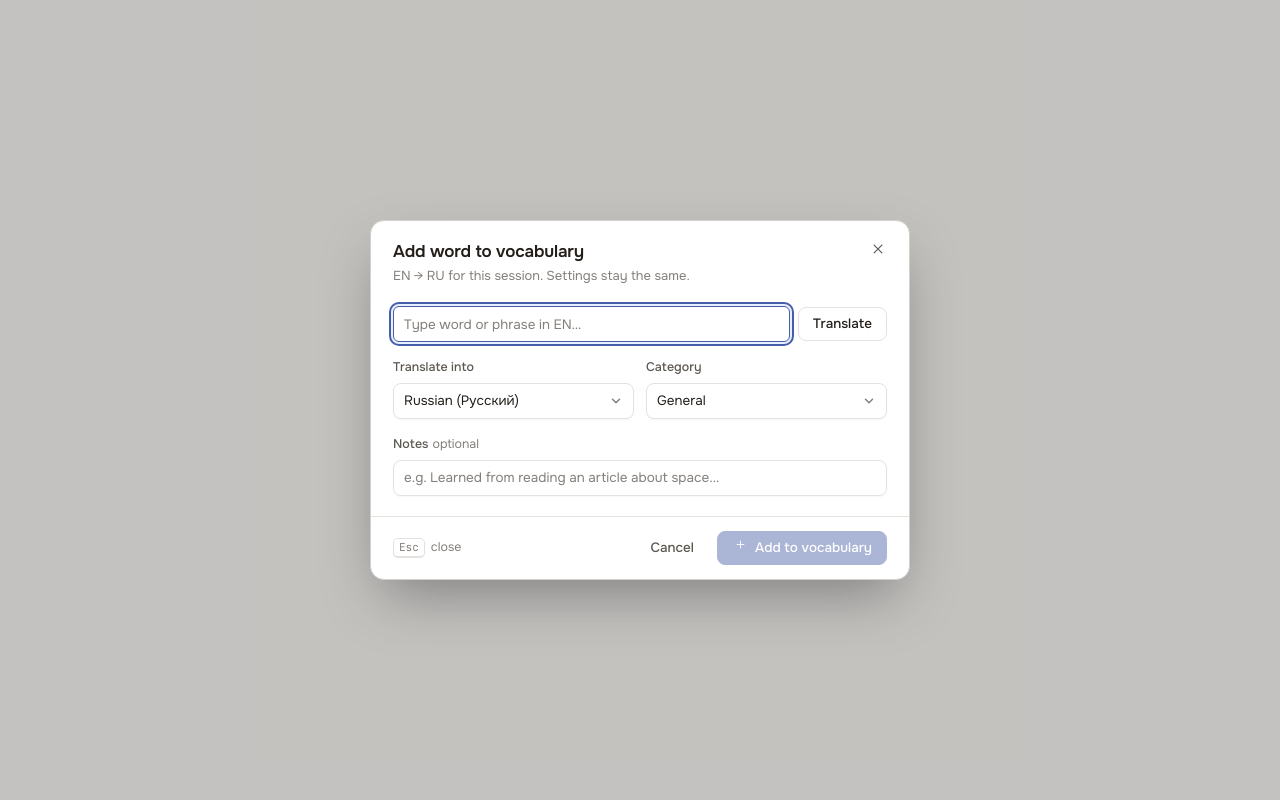
Test case: AddWordModal › shows a translation error when the provider fails
Type "apple" into the field named "Word or phrase to translate" at [592, 324], box [393,306,790,342]
Then press Enter
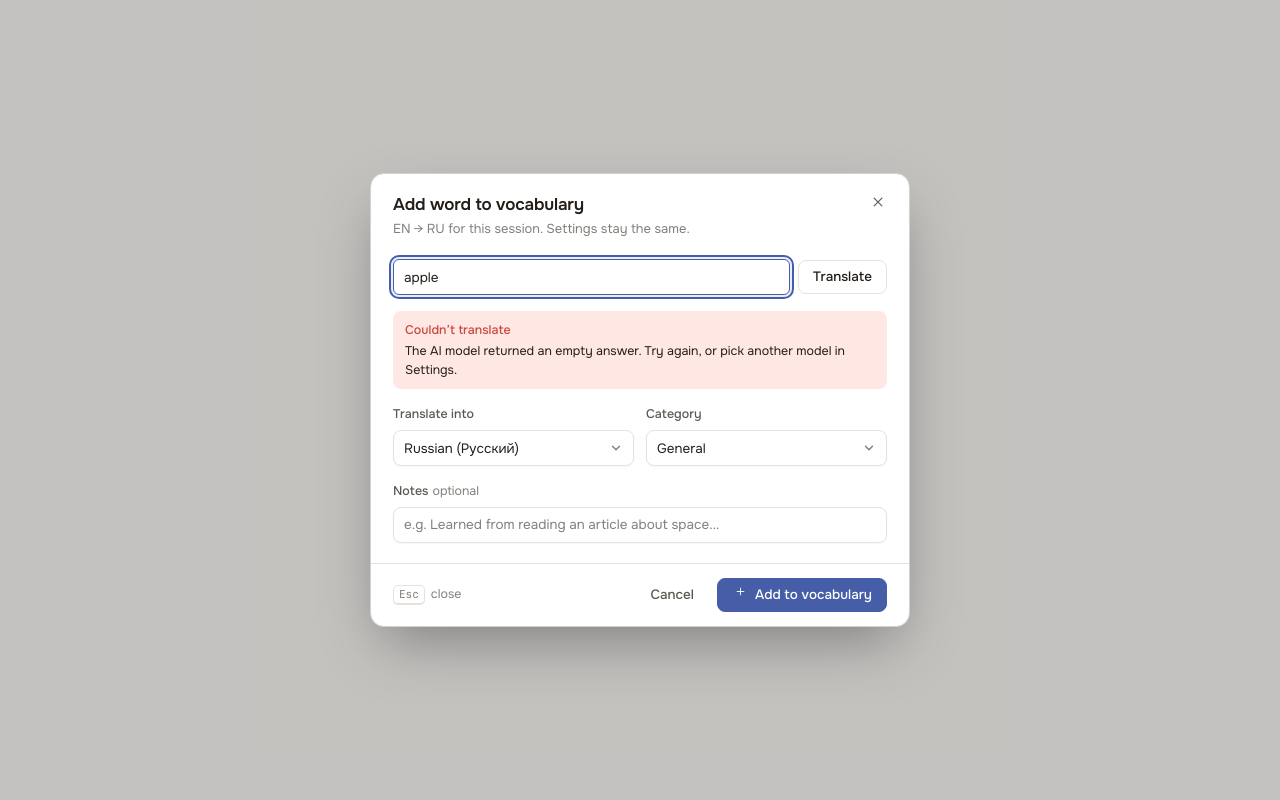
Result: the message shows "empty answer" at [405,343,845,378]
Result: the message shows "Couldn’t translate" at [405,322,511,338]
